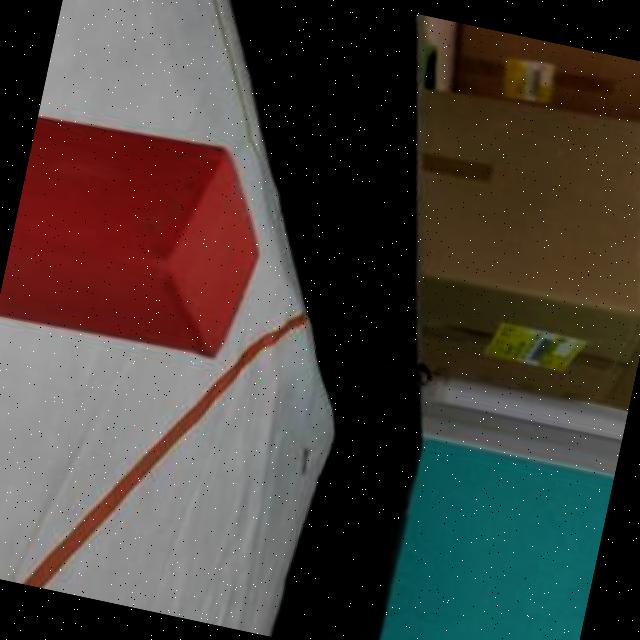redbox: (0, 104, 284, 367)
